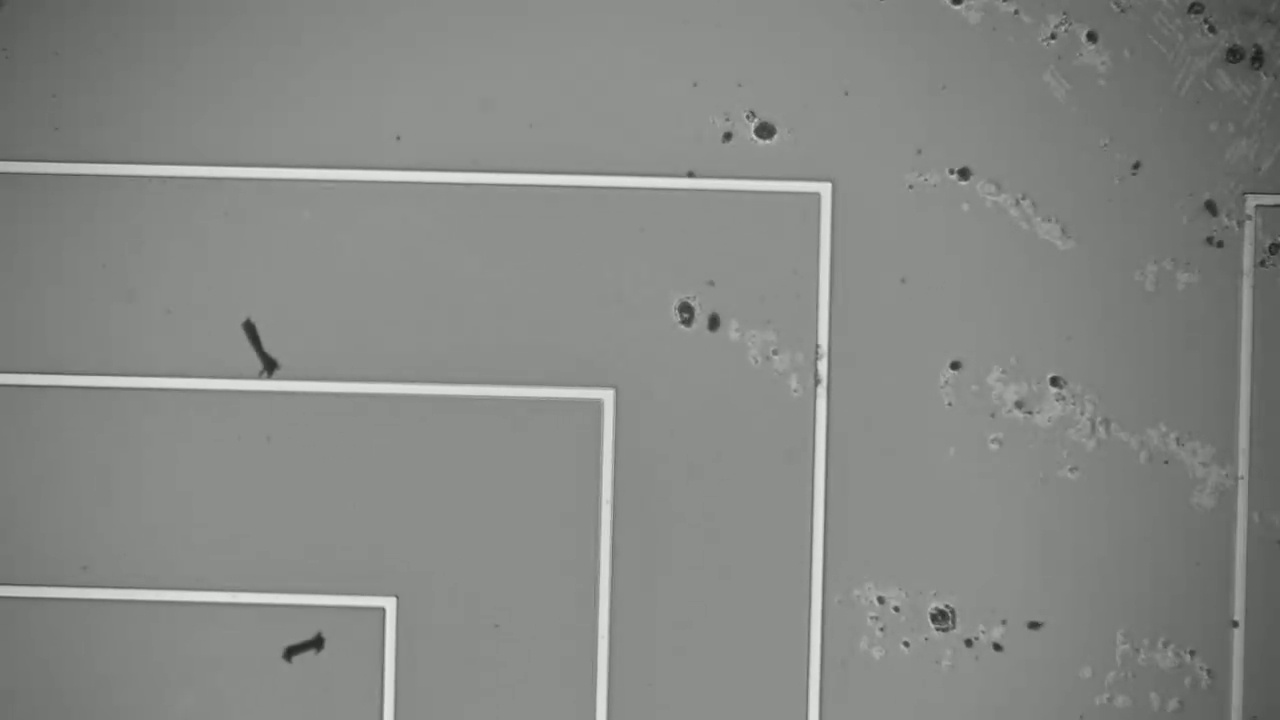Short_circuit: (1228, 613, 1250, 630)
